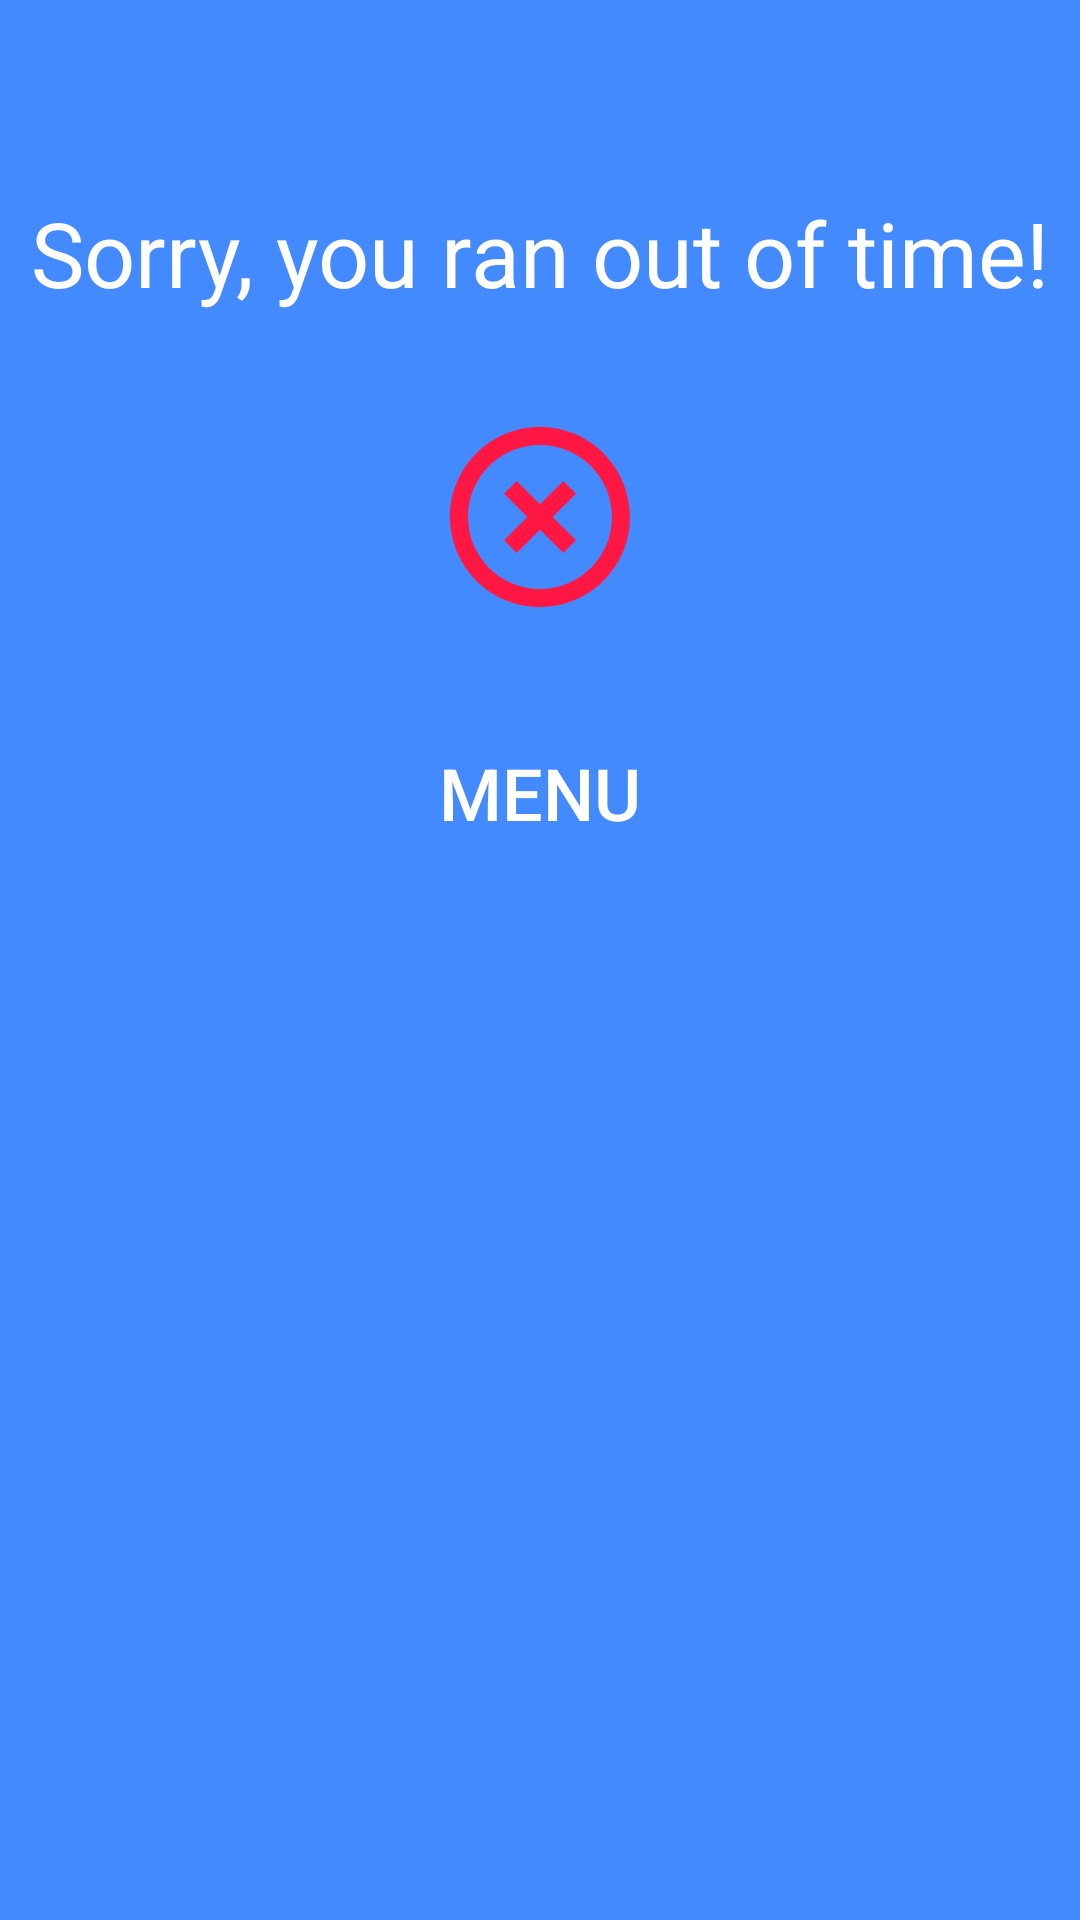

Icon bounding boxes for this 1080px×1920px phone screenshot, format BBox(x1, y1, x2, y2):
Cross: BBox(450, 427, 630, 607)
